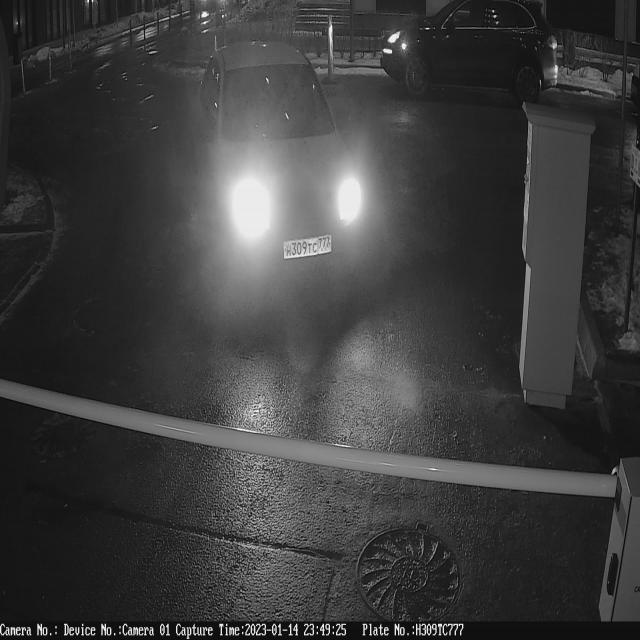car-plate-numbers: (281, 234, 334, 263)
